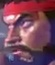ryu: (3, 0, 53, 64)
